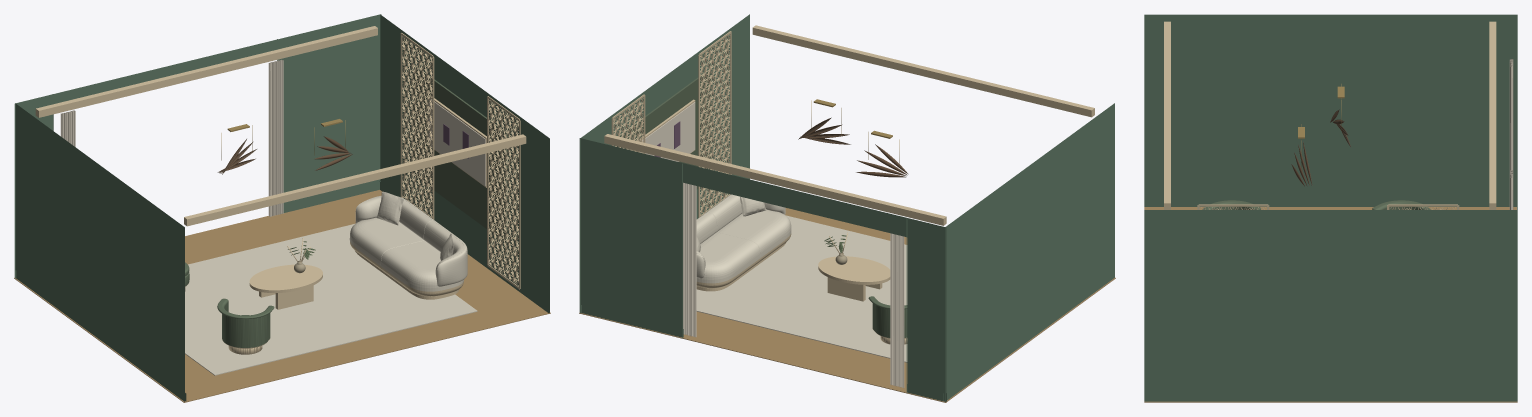
File: great-1.glb
3 renders of one model, left to right at view 1: azimuth 30°, elevation 25°; view 2: azimuth 150°, elevation 25°; view 3: azimuth 270°, elevation 25°, orthographic. The views are drawn at different scales.
Visible parts, largest first — view 1: DESIGN | great removable wall finish, DESIGN | Great room primary ground, DESIGN | great floor finish, DESIGN | Great room sofa facing conversation, DESIGN | Kumiko | Great room vertical garden boundary, DESIGN | Kumiko | Great room vertical garden boundary.001, DESIGN | Garden salon fabric wall field, DESIGN | Garden salon perimeter timber, DESIGN | Garden salon perimeter timber.001, DESIGN | Great room soft window edge.001, DESIGN | Textile artwork.002, DESIGN | Required Bellustar swivel chair one (+4 smaller); view 2: DESIGN | great removable wall finish, DESIGN | Great room primary ground, DESIGN | great floor finish, DESIGN | Great room sofa facing conversation, DESIGN | Kumiko | Great room vertical garden boundary, DESIGN | Garden salon perimeter timber.001, DESIGN | Garden salon perimeter timber, DESIGN | Great room soft window edge, DESIGN | Great room soft window edge.001, DESIGN | Garden salon fabric wall field, DESIGN | Great room conversation table top, DESIGN | Textile artwork.002 (+5 smaller); view 3: DESIGN | great removable wall finish, DESIGN | Garden salon perimeter timber.001, DESIGN | great floor finish, DESIGN | Garden salon perimeter timber, DESIGN | Great room soft window edge, DESIGN | Required Bellustar swivel chair two, DESIGN | Required Bellustar swivel chair one, DESIGN | Required Flou pendant 2, DESIGN | Kumiko | Great room vertical garden boundary.001.
Part boxes in pixels (x1,y1,x2,y2): DESIGN | great removable wall finish: (14, 14, 549, 401); DESIGN | Great room primary ground: (185, 224, 477, 375); DESIGN | great floor finish: (14, 190, 550, 402); DESIGN | Great room sofa facing conversation: (349, 191, 467, 299); DESIGN | Kumiko | Great room vertical garden boundary: (487, 96, 520, 289); DESIGN | Kumiko | Great room vertical garden boundary.001: (400, 33, 434, 219); DESIGN | Garden salon fabric wall field: (412, 66, 507, 242); DESIGN | Garden salon perimeter timber: (184, 134, 526, 226); DESIGN | Garden salon perimeter timber.001: (35, 26, 377, 117); DESIGN | Great room soft window edge.001: (268, 59, 283, 216); DESIGN | Textile artwork.002: (428, 99, 485, 186); DESIGN | Required Bellustar swivel chair one: (217, 298, 274, 354); DESIGN | great removable wall finish: (579, 14, 1114, 401); DESIGN | Great room primary ground: (696, 215, 907, 362); DESIGN | great floor finish: (579, 208, 1115, 402); DESIGN | Great room sofa facing conversation: (696, 194, 791, 291); DESIGN | Kumiko | Great room vertical garden boundary: (698, 31, 731, 217); DESIGN | Garden salon perimeter timber.001: (604, 134, 946, 225); DESIGN | Garden salon perimeter timber: (752, 25, 1094, 117); DESIGN | Great room soft window edge: (890, 233, 904, 387); DESIGN | Great room soft window edge.001: (683, 182, 696, 337); DESIGN | Garden salon fabric wall field: (617, 70, 710, 189); DESIGN | Great room conversation table top: (818, 256, 890, 284); DESIGN | Textile artwork.002: (640, 102, 695, 161); DESIGN | great removable wall finish: (1144, 14, 1517, 401); DESIGN | Garden salon perimeter timber.001: (1489, 21, 1496, 209); DESIGN | great floor finish: (1144, 207, 1517, 402); DESIGN | Garden salon perimeter timber: (1164, 21, 1170, 209); DESIGN | Great room soft window edge: (1509, 59, 1513, 170); DESIGN | Required Bellustar swivel chair two: (1372, 200, 1430, 209); DESIGN | Required Bellustar swivel chair one: (1203, 200, 1260, 209); DESIGN | Required Flou pendant 2: (1291, 142, 1312, 186); DESIGN | Kumiko | Great room vertical garden boundary.001: (1387, 204, 1459, 209).
Size of the model in its own units: 6 by 2.78 by 4.82.
